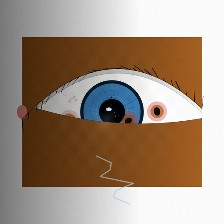foreign_body_visible: (109, 106, 147, 136)
